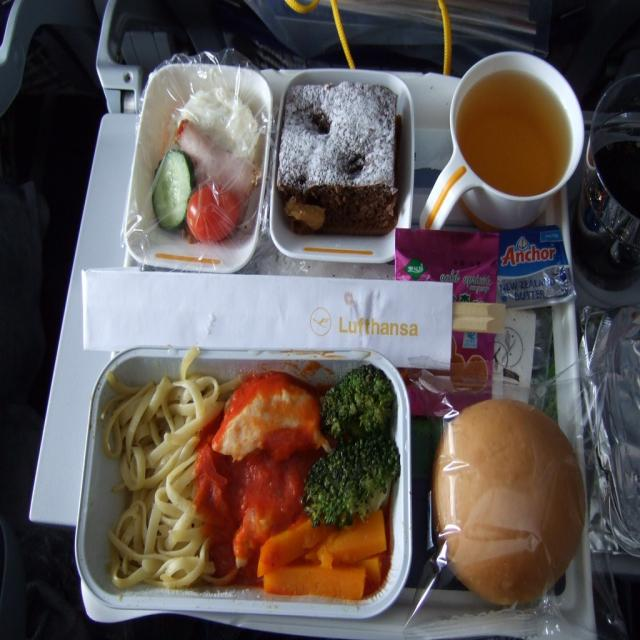Tea: (457, 70, 574, 198)
